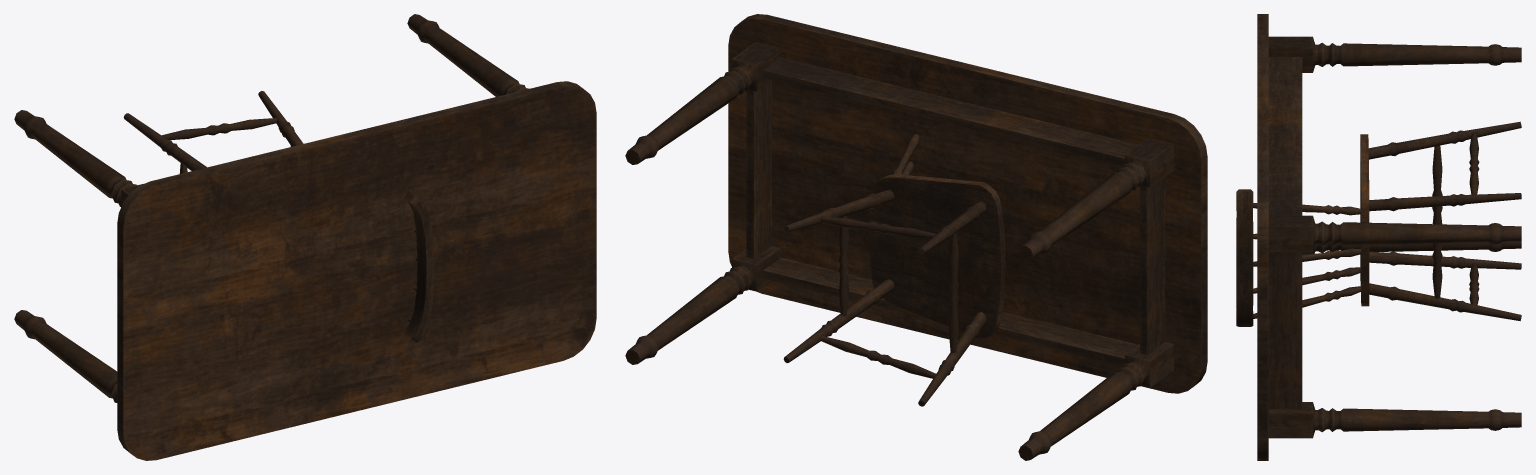
Rendered from table-and-chairs-2aee19.glb.
The picture shows the model from 3 angles, left to right: view 1: azimuth 30°, elevation 25°; view 2: azimuth 150°, elevation 25°; view 3: azimuth 270°, elevation 25°; orthographic projection. The views are drawn at different scales.
Visible parts, largest first — view 1: PropMesh; view 2: PropMesh; view 3: PropMesh.
Part boxes in pixels (x1=…): PropMesh: x1=14, y1=14, x2=596, y2=460; PropMesh: x1=625, y1=14, x2=1207, y2=460; PropMesh: x1=1236, y1=14, x2=1521, y2=460.
Size of the model in its own units: 1.51 by 0.835 by 0.845.
2 materials, 2 textured.
